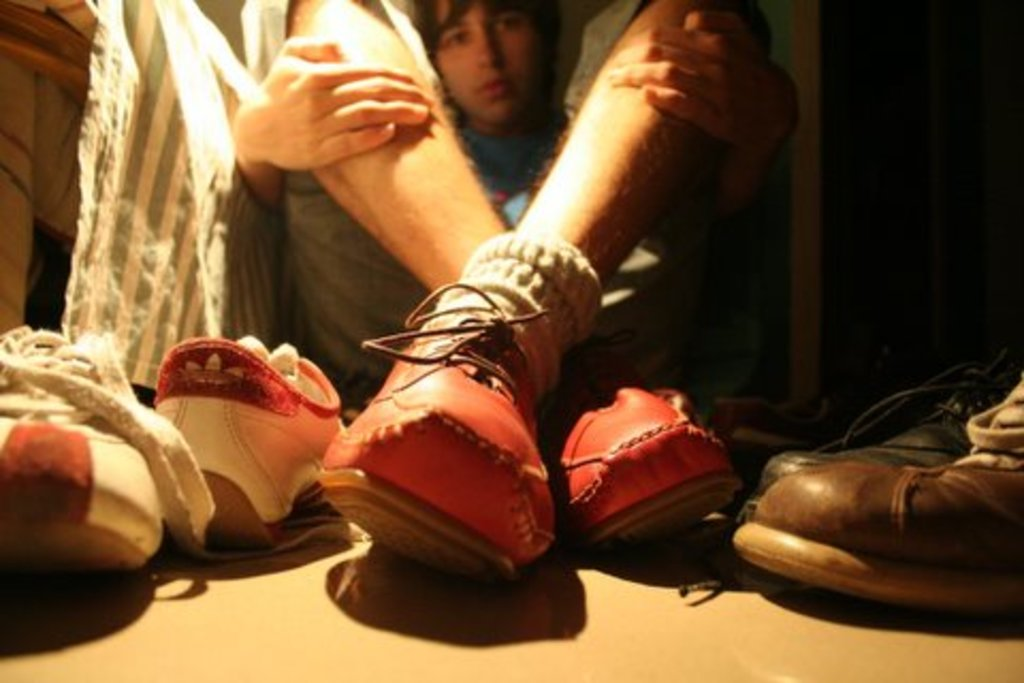Human_hand: (211, 38, 461, 190), (602, 6, 804, 160)
